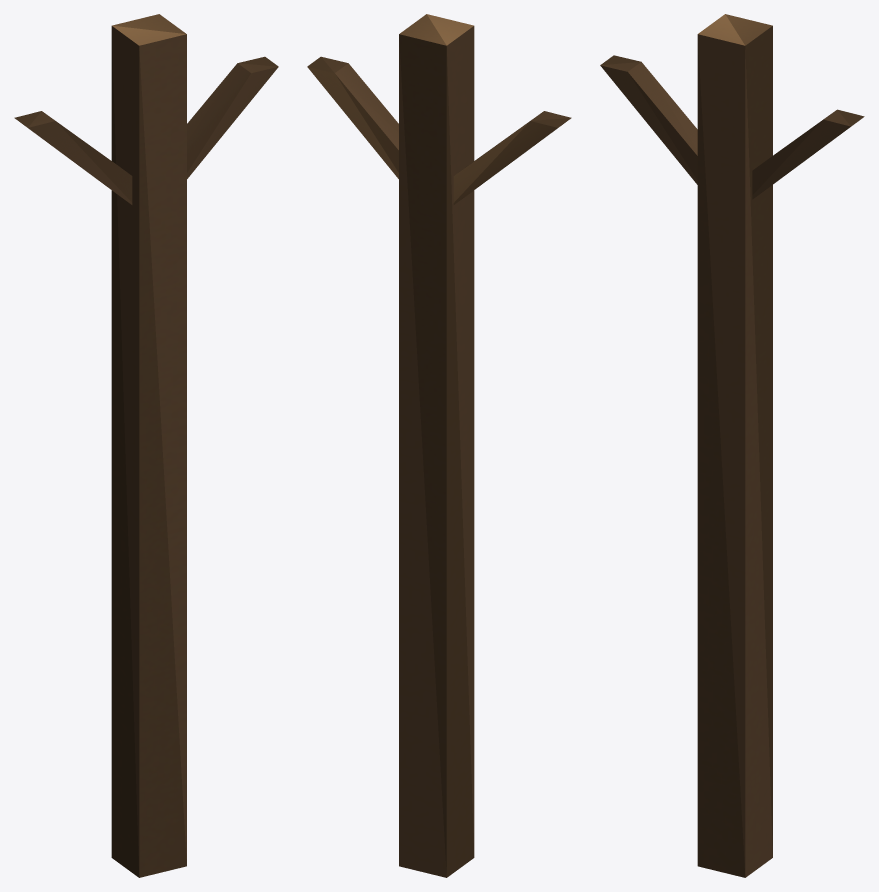
File: Wood_3B_Lod1.fbx
3 views of the same model, side by side, from view 1: azimuth 30°, elevation 25°; view 2: azimuth 150°, elevation 25°; view 3: azimuth 330°, elevation 25° (orthographic).
Parts seen in each view (by area): view 1: polySurface1093; view 2: polySurface1093; view 3: polySurface1093.
Boxes of the visible parts, box(x1,y1,x2,y2) form: polySurface1093: box(14, 14, 278, 877); polySurface1093: box(307, 14, 571, 877); polySurface1093: box(600, 14, 864, 877).
Bounding box in the file's own units: 316 × 1000 × 60.
1 material, 1 textured.
